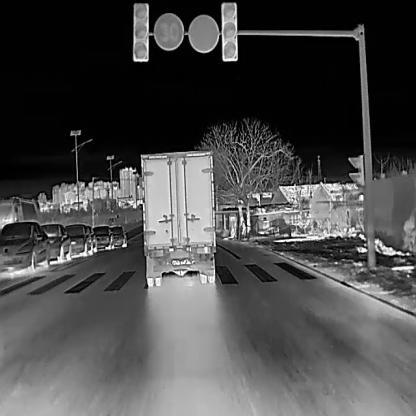car: (139, 148, 216, 286), (0, 219, 50, 270), (0, 195, 46, 238), (38, 223, 73, 263), (63, 223, 92, 256), (91, 225, 114, 250), (109, 224, 127, 248)
